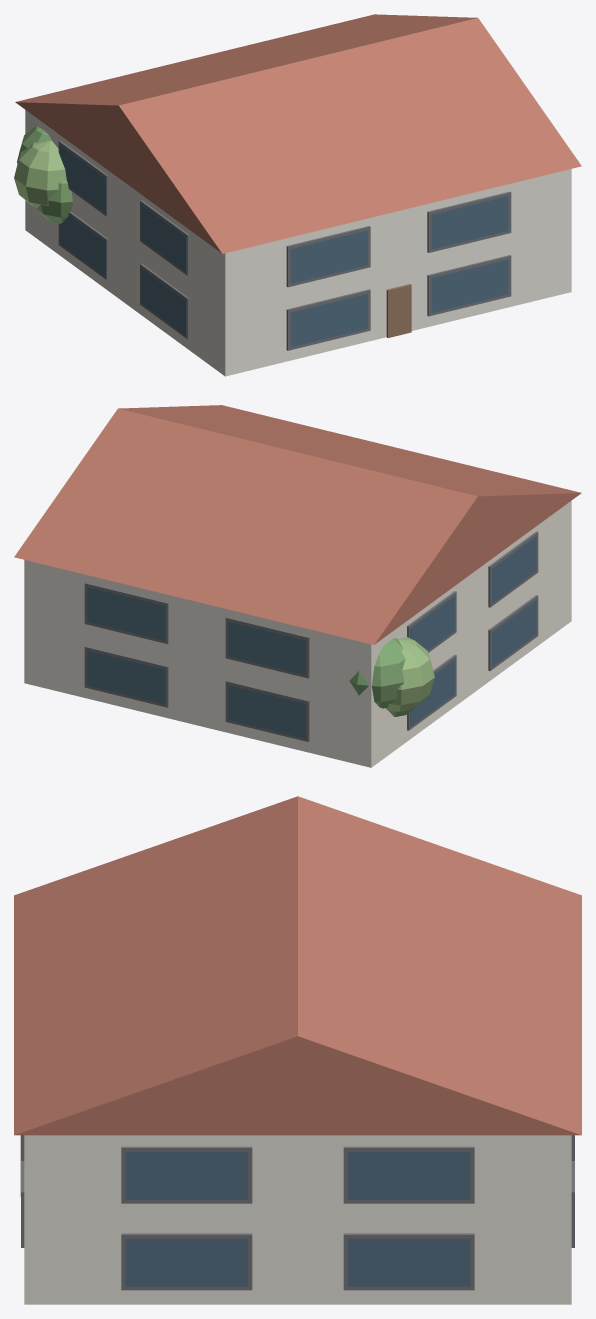
File: house.glb
3 renders of one model, top to bottom at view 1: azimuth 30°, elevation 25°; view 2: azimuth 150°, elevation 25°; view 3: azimuth 270°, elevation 25°, orthographic. The views are drawn at different scales.
Parts seen in each view (by area): view 1: m, Cube, Cube.002, Cube.001, Sphere.002, Sphere, Cube.033; view 2: m, Cube, Cube.002, Cube.001, Sphere, Sphere.002; view 3: m, Cube, Cube.002, Cube.001.
Part boxes in pixels (<box>): m: <box>15,14,581,253</box>; Cube: <box>25,110,571,376</box>; Cube.002: <box>60,145,508,347</box>; Cube.001: <box>58,140,511,350</box>; Sphere.002: <box>14,140,66,208</box>; Sphere: <box>17,126,72,223</box>; Cube.033: <box>386,284,411,337</box>; m: <box>14,405,581,644</box>; Cube: <box>24,501,571,767</box>; Cube.002: <box>87,536,536,738</box>; Cube.001: <box>84,531,538,741</box>; Sphere: <box>349,638,425,716</box>; Sphere.002: <box>385,637,434,711</box>; m: <box>14,796,581,1135</box>; Cube: <box>24,1135,571,1304</box>; Cube.002: <box>125,1152,470,1286</box>; Cube.001: <box>21,1135,574,1290</box>.
Bounding box in the file's own units: 17.75 × 8.8 × 16.6.
